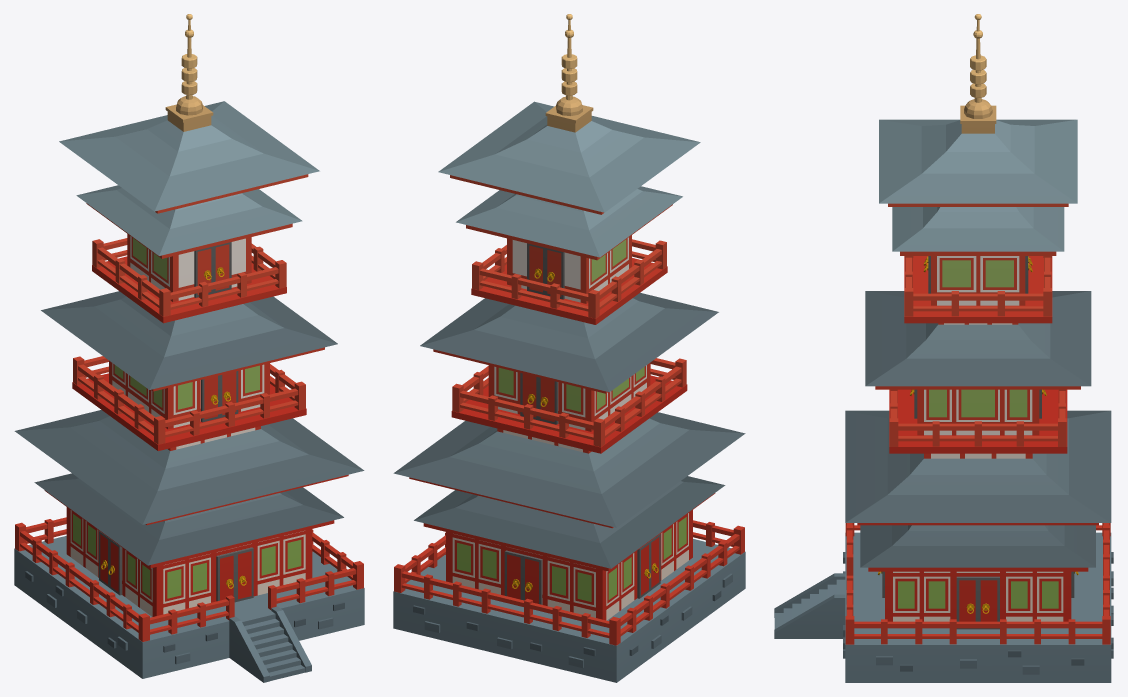
Rendered from japanes temple.fbx.
3 views of the same model, side by side, from view 1: azimuth 30°, elevation 25°; view 2: azimuth 150°, elevation 25°; view 3: azimuth 270°, elevation 25° (orthographic). The views are drawn at different scales.
Parts seen in each view (by area): view 1: japanes temple; view 2: japanes temple; view 3: japanes temple.
Boxes of the visible parts, box(x1,y1,x2,y2) form: japanes temple: box(14, 14, 364, 682); japanes temple: box(393, 14, 745, 682); japanes temple: box(774, 14, 1113, 682).
Bounding box in the file's own units: 855 × 2133 × 1072.
